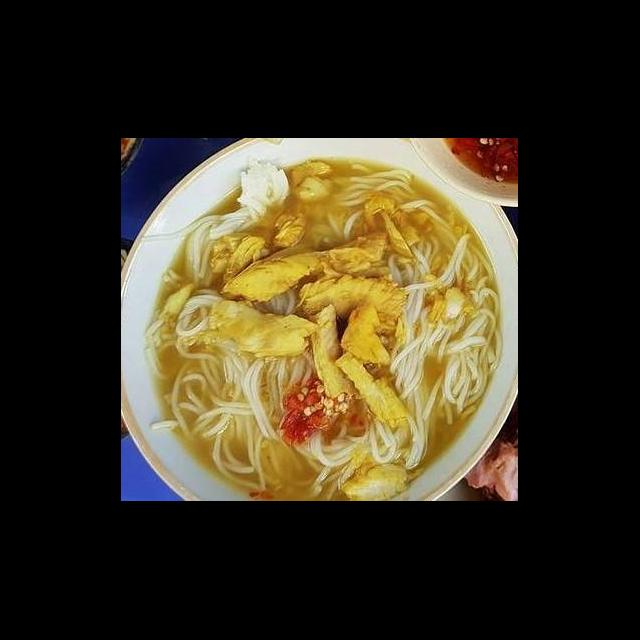bun: (390, 164, 504, 470), (150, 358, 326, 502), (158, 154, 296, 296)
bun ca: (134, 171, 512, 499)
ca: (212, 240, 340, 304), (197, 296, 321, 362), (338, 302, 397, 368)
